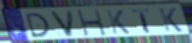D: (24, 12, 52, 39)
H: (76, 8, 109, 38)
K: (157, 7, 185, 33), (105, 9, 132, 35)
T: (131, 8, 153, 34)
V: (48, 10, 75, 39)
